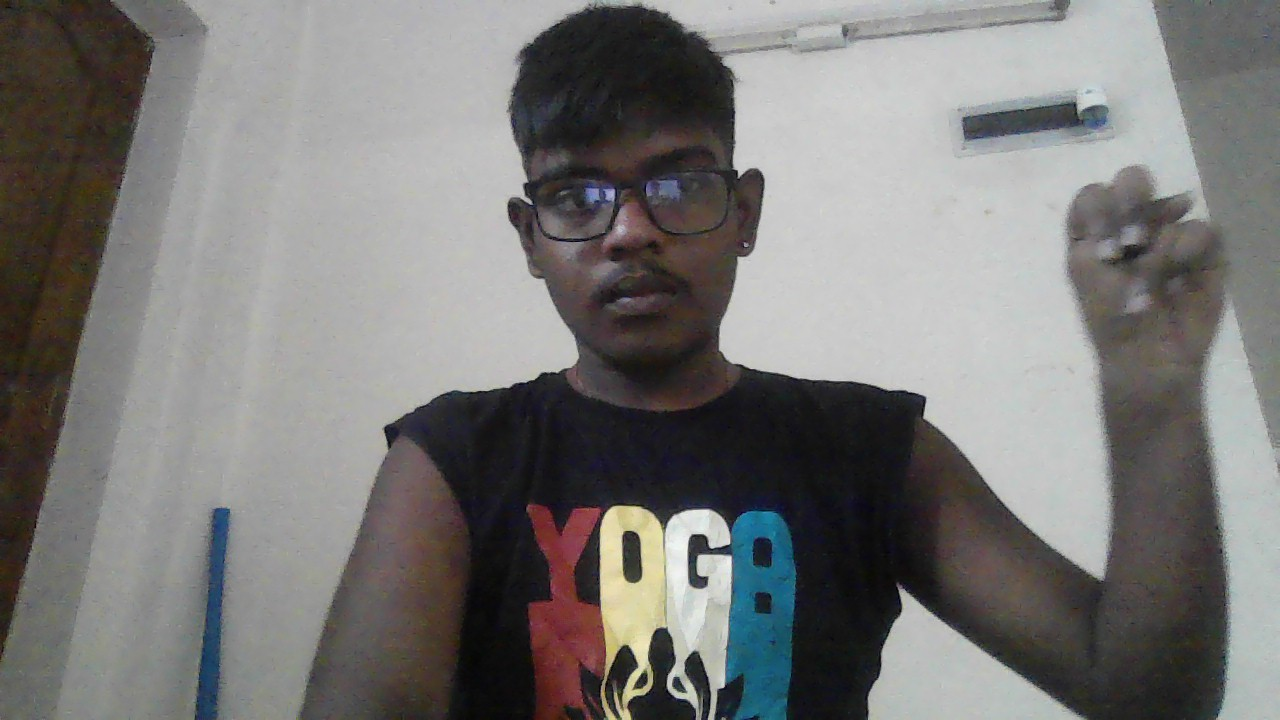N: (1068, 168, 1230, 373)
